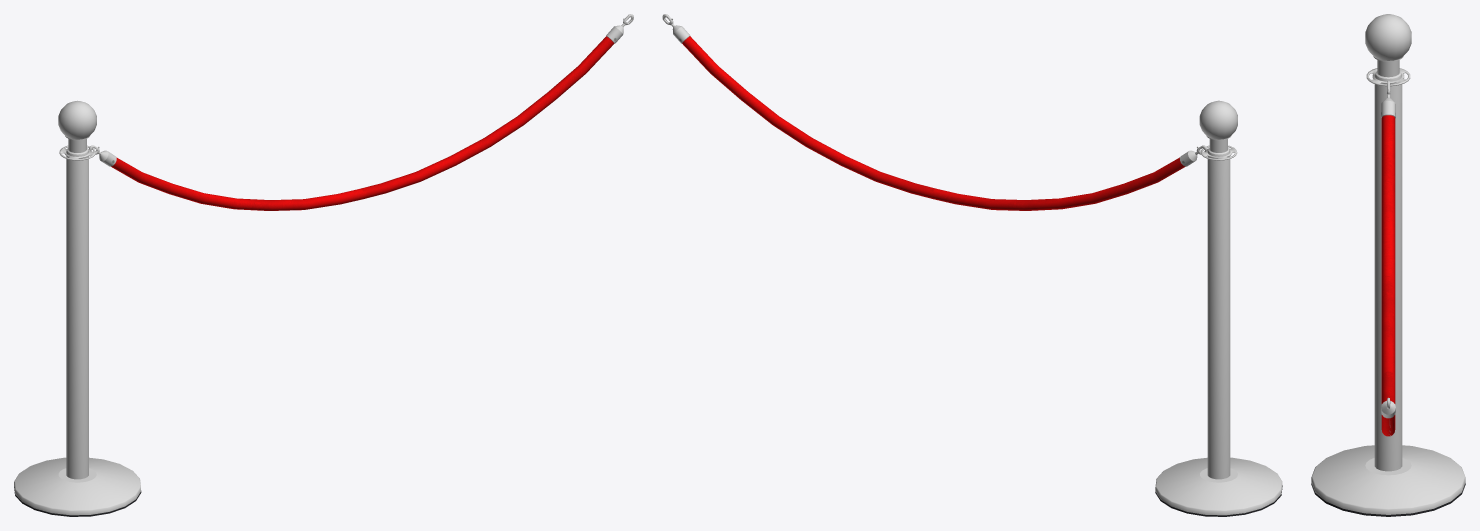
The model's file is BarrierRope01_2.FBX.
The picture shows the model from 3 angles, left to right: view 1: azimuth 30°, elevation 25°; view 2: azimuth 150°, elevation 25°; view 3: azimuth 270°, elevation 25°; orthographic projection. The views are drawn at different scales.
Visible parts, largest first — view 1: BarrierRope01_2; view 2: BarrierRope01_2; view 3: BarrierRope01_2.
Part boxes in pixels (<box>): BarrierRope01_2: <box>14,14,633,516</box>; BarrierRope01_2: <box>662,14,1282,516</box>; BarrierRope01_2: <box>1311,14,1465,516</box>.
Size of the model in its own units: 172 by 104 by 31.06.
